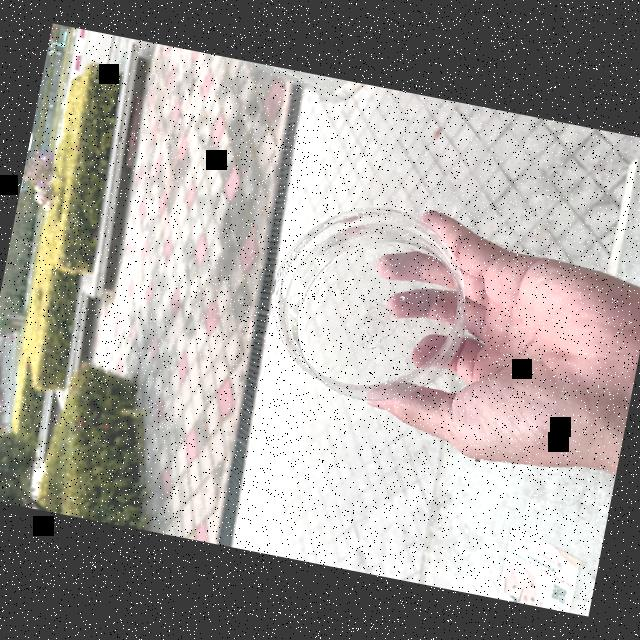plastic_cup_lid: (251, 187, 490, 426)
